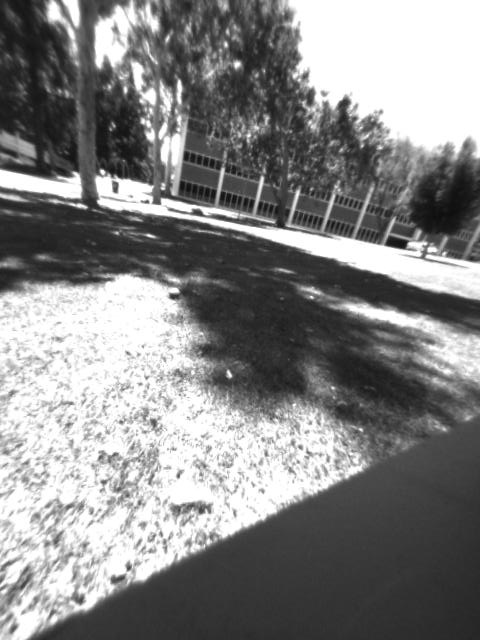dogtoy: (163, 277, 190, 306)
